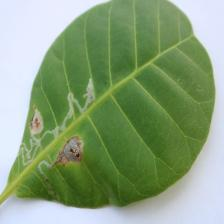leaf miner: (0, 0, 216, 214), (50, 135, 84, 168)
